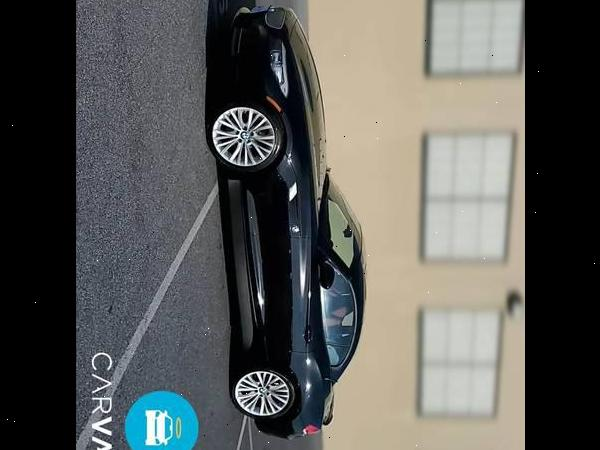Front_Bumper: (229, 6, 285, 115)
Front_Fender: (243, 79, 319, 237)
Front_Left_Door: (251, 234, 326, 358)
Front_Left_Window: (320, 254, 357, 368)
Front_Windshield: (320, 171, 362, 273)
Grille: (268, 5, 289, 30)
Hood: (281, 10, 328, 228)
Left_Headlight: (270, 43, 290, 98)
Left_Taillight: (303, 425, 318, 433)
Rear_Bumper: (254, 414, 306, 440)
Rear_Fender: (262, 345, 333, 428)
Roof: (318, 225, 367, 382)
Wheel: (207, 100, 282, 174), (231, 368, 294, 420)
